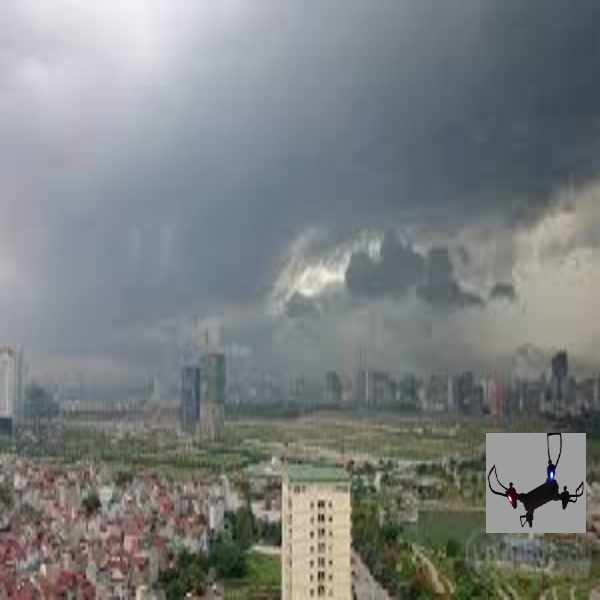drone: (486, 429, 586, 532)
